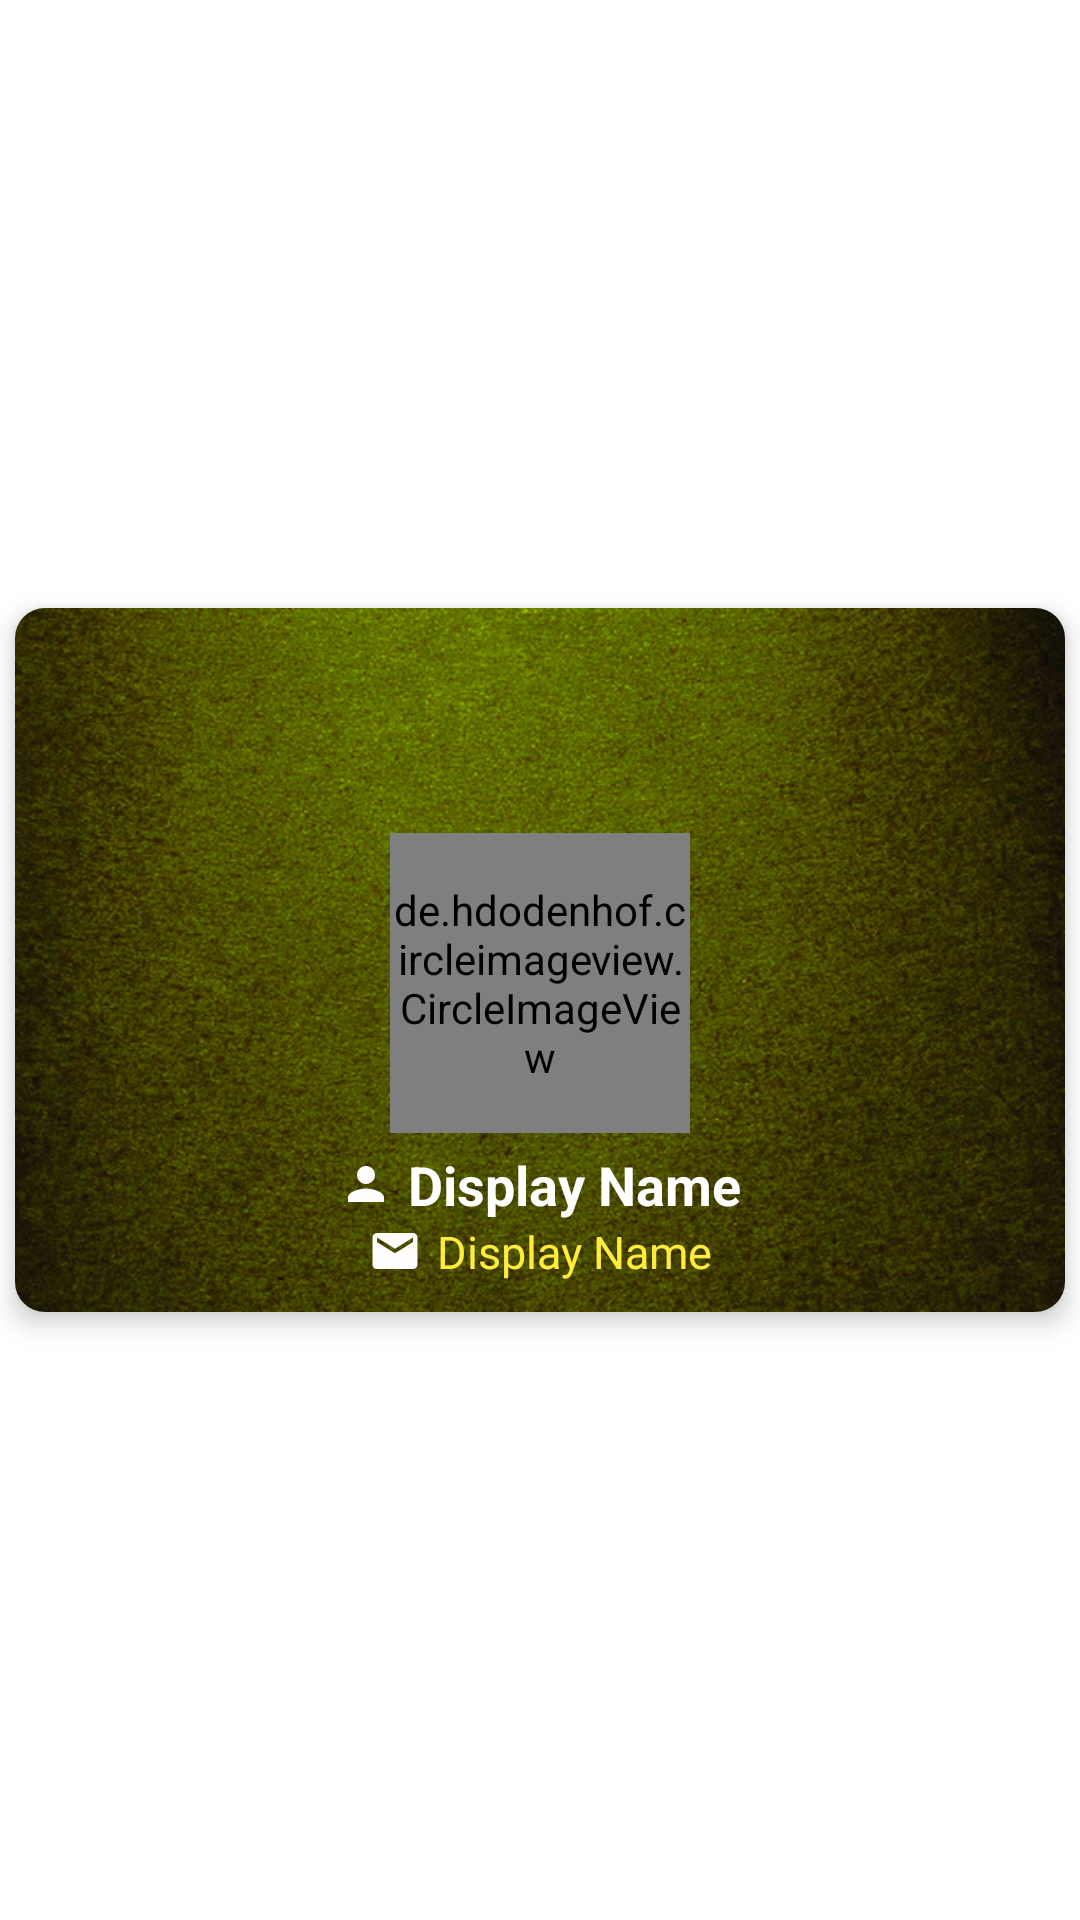

Icon bounding boxes for this 1080px×1920px phone screenshot, format Rect(x1, y1, x2, y2):
email: Rect(368, 1226, 422, 1278)
person: Rect(339, 1157, 393, 1211)
